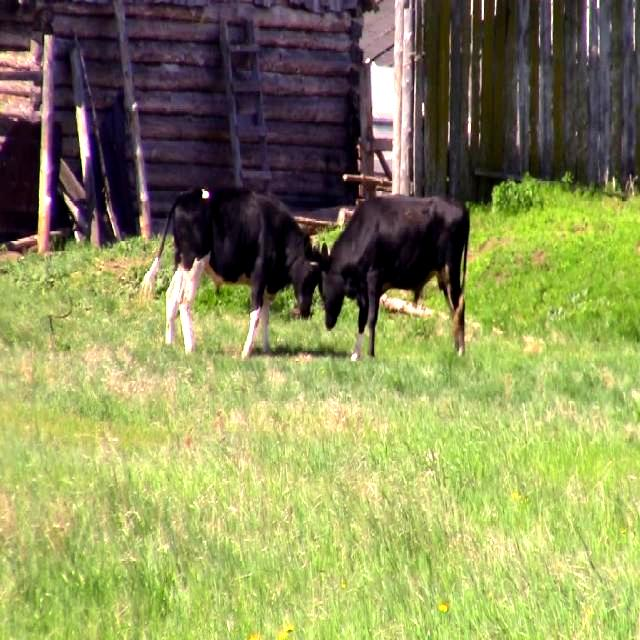COW: (142, 190, 320, 357), (312, 195, 469, 359)
